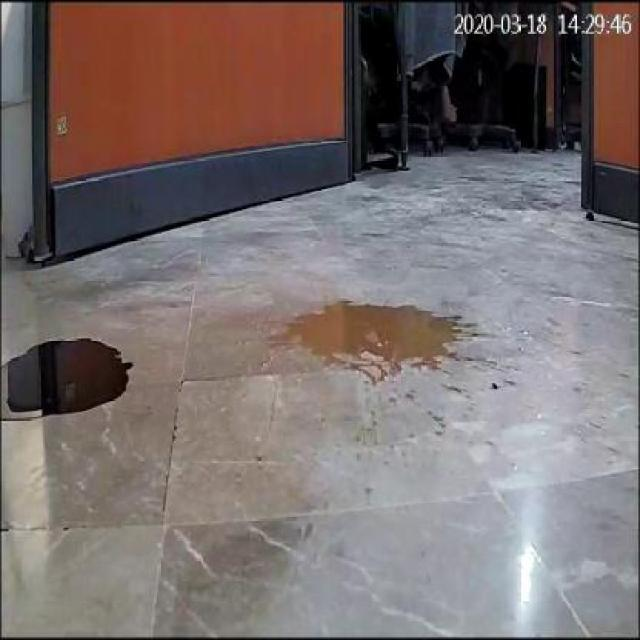spill: (280, 298, 471, 386), (3, 335, 137, 420)
